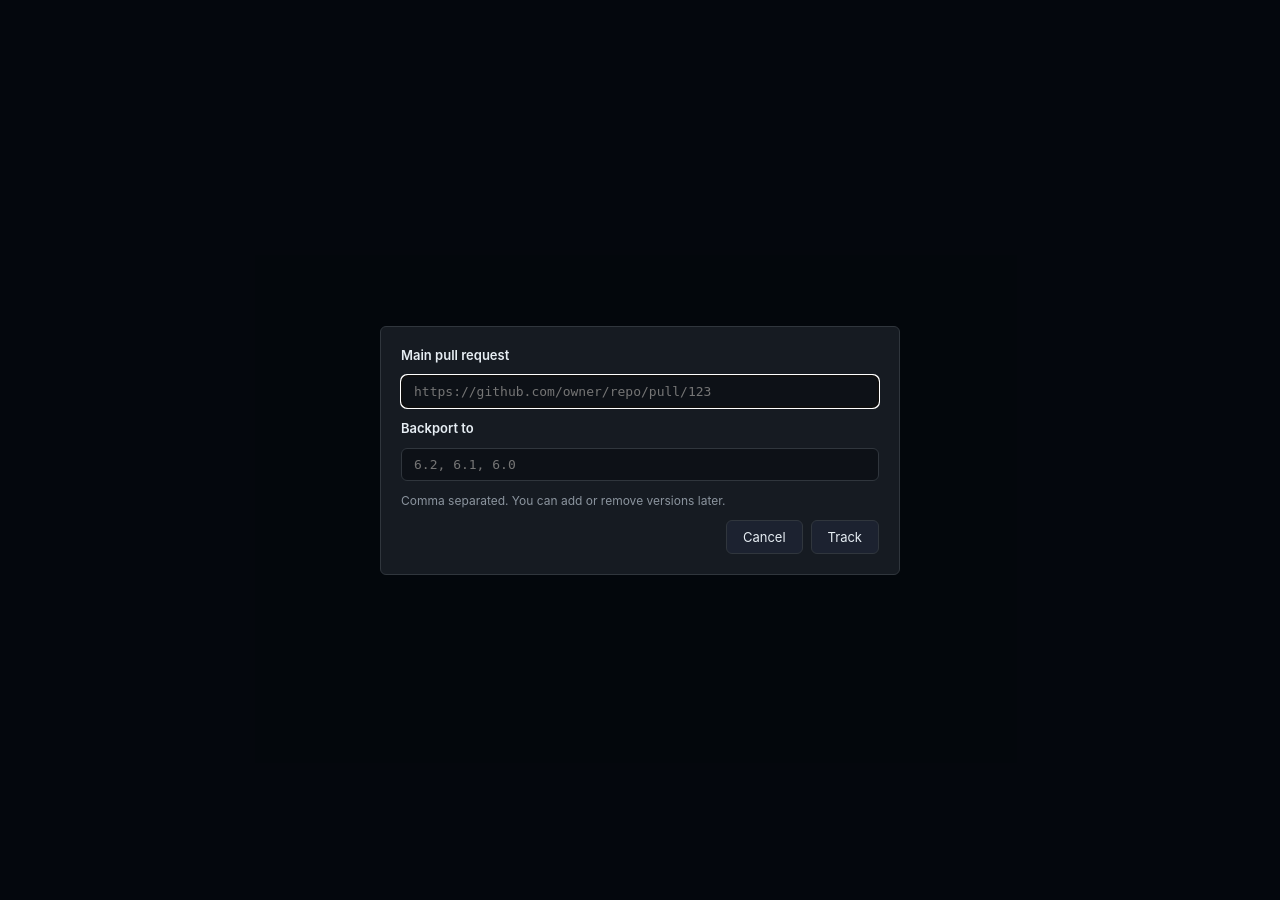
AddBackportGroupDialog — version detection › fills the versions field once detection resolves for a valid URL
The image size is (1280, 900).
Type "https://github.com/Example/example-server/pull/4821" into the field labelled "Main pull request".
click(640, 391); type("https://github.com/Example/example-server/pull/4821")  # box [401, 374, 879, 408]
Wait 500 ms
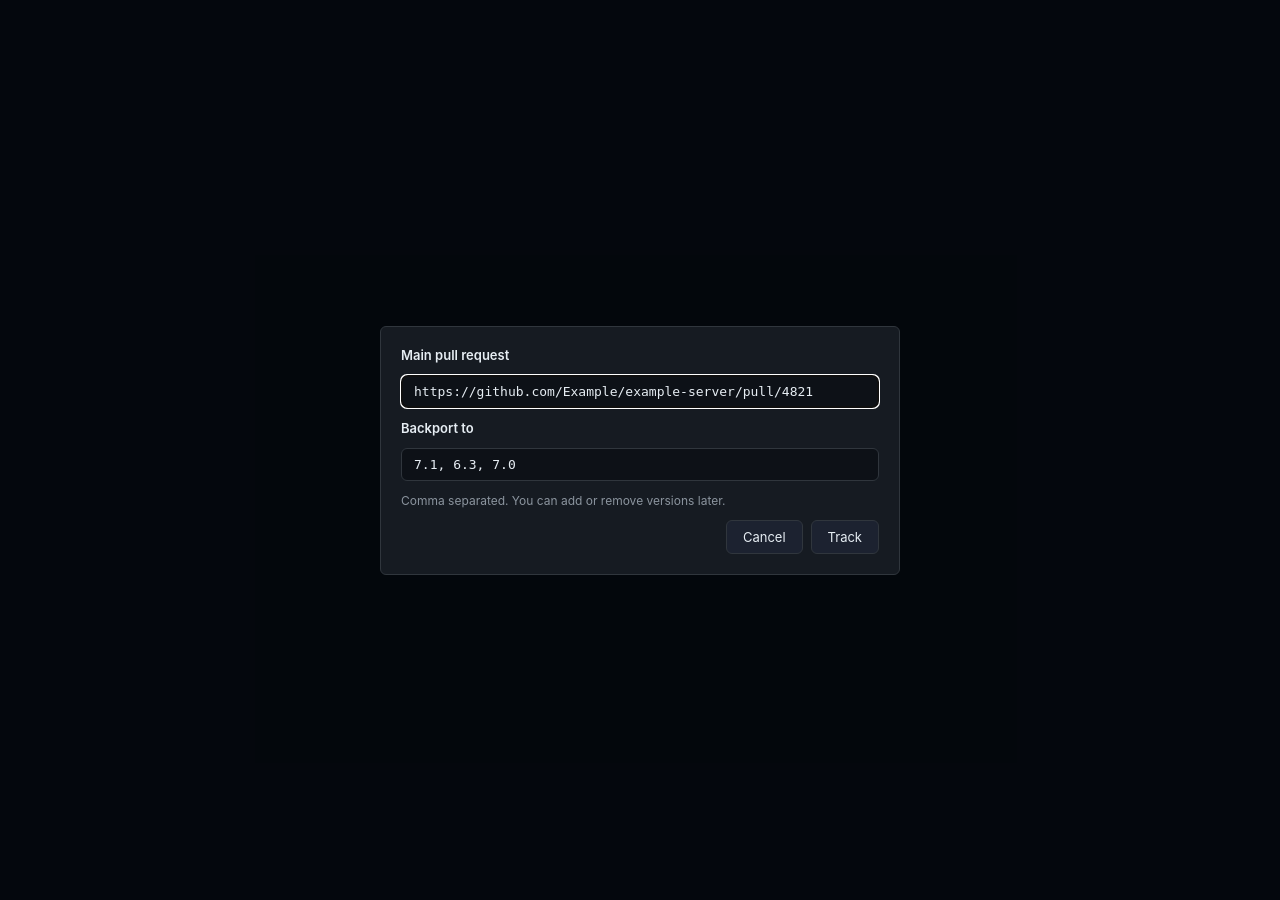
Now the field labelled "Backport to" holds "7.1, 6.3, 7.0", box [401, 448, 879, 480]
